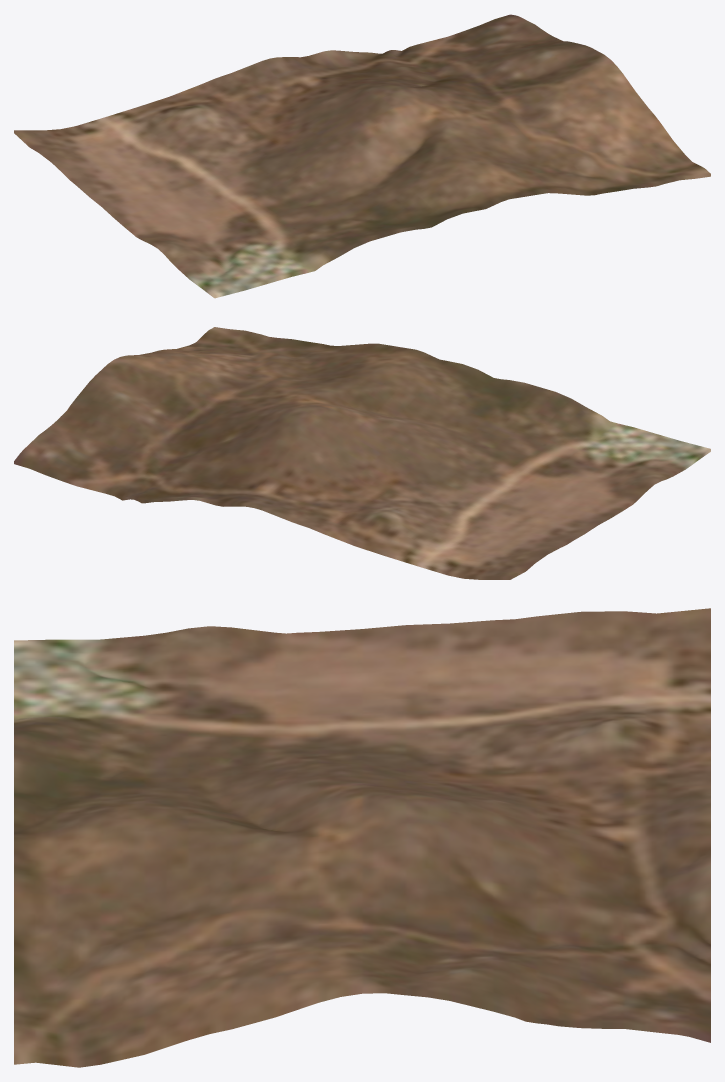
File: terrain_r0_c5_lod1.glb
3 views of the same model, one above another, from view 1: azimuth 30°, elevation 25°; view 2: azimuth 150°, elevation 25°; view 3: azimuth 270°, elevation 25° (orthographic). The views are drawn at different scales.
Parts seen in each view (by area): view 1: terrain_r0_c5_lod1; view 2: terrain_r0_c5_lod1; view 3: terrain_r0_c5_lod1.
Part boxes in pixels (x1,y1,x2,y2): terrain_r0_c5_lod1: (14,14,710,298); terrain_r0_c5_lod1: (14,327,710,579); terrain_r0_c5_lod1: (14,608,710,1067).
Bounding box in the file's own units: 1125 × 114 × 787.
Materials: 1 (1 with a texture image).
